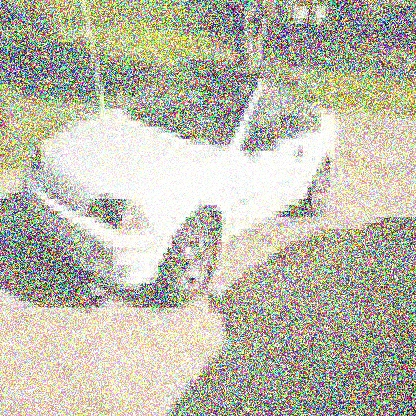Vehicle: (27, 54, 348, 314)
